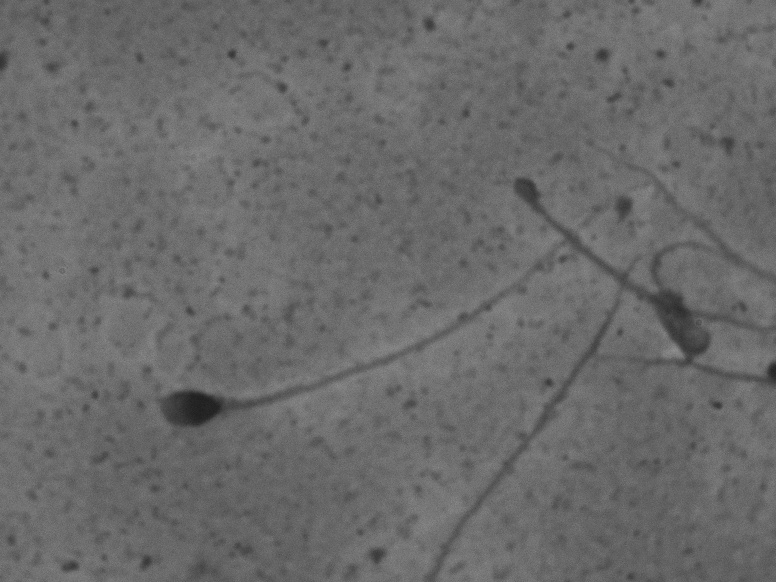Normal: (150, 190, 626, 439)
